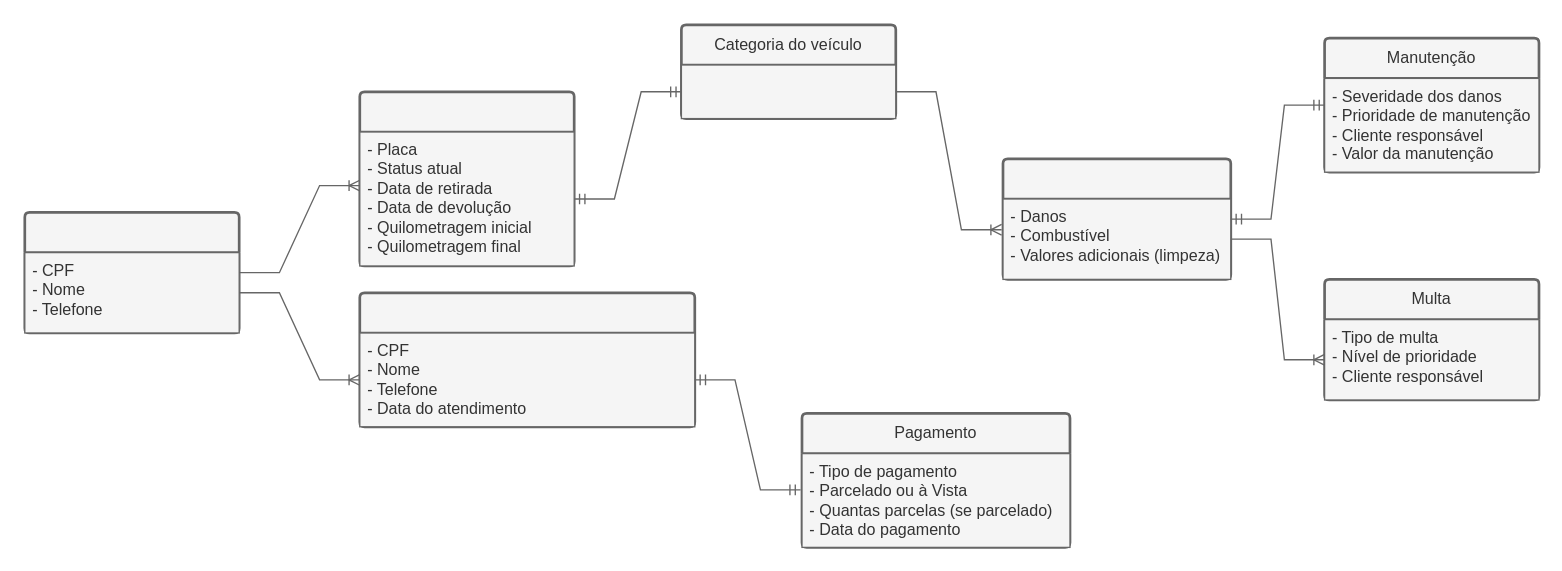
The diagram is 1562 pixels wide and 571 high, and some of its shapes have lost their labels. The shapes that lost their labels are listed below. From the top down, each one's box as (x1, y1, x2, y2) in pixels, then its label:
(680, 64, 896, 119): - Tipo - Serviço a ser utilizado
(358, 90, 575, 267): Veículo
(1001, 157, 1231, 280): Status do veículo
(23, 210, 240, 334): Cliente
(358, 291, 695, 427): Funcionário que realizou o atendimento
